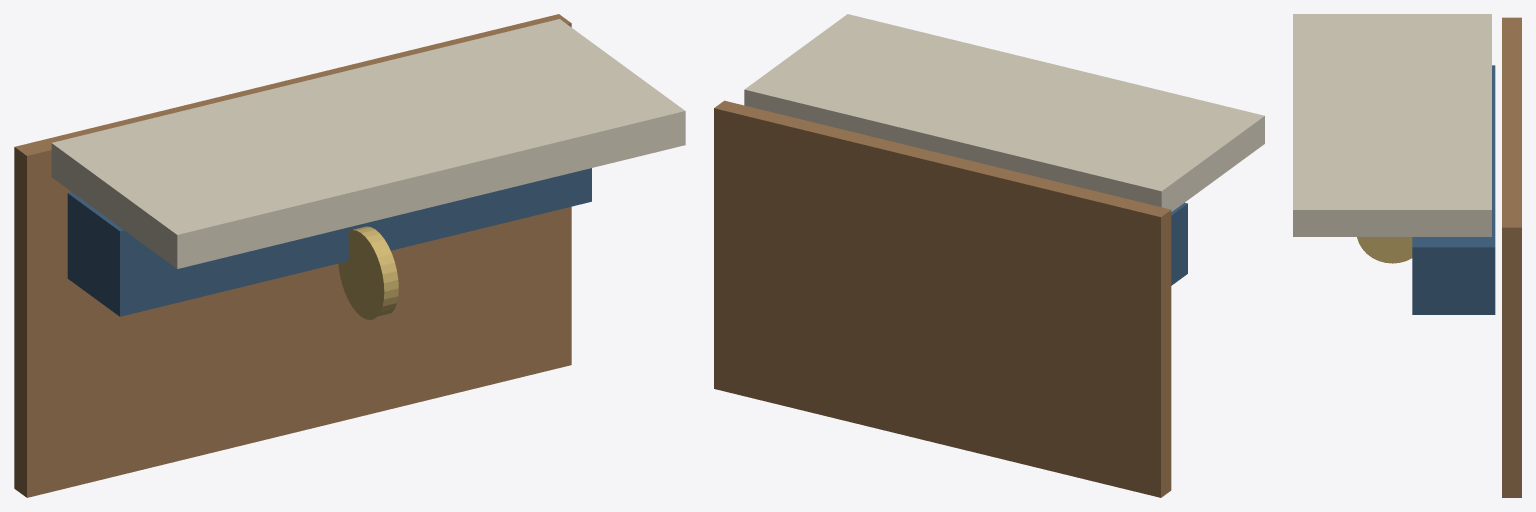
The model's file is env-sky-cockpit.glb.
3 renders of one model, left to right at view 1: azimuth 30°, elevation 25°; view 2: azimuth 150°, elevation 25°; view 3: azimuth 270°, elevation 25°, orthographic. The views are drawn at different scales.
Visible parts, largest first — view 1: wood_floor, cockpit_back_wall, cockpit_console, placeholder_wheel; view 2: wood_floor, cockpit_back_wall, cockpit_console; view 3: cockpit_back_wall, wood_floor, cockpit_console, placeholder_wheel.
Part boxes in pixels (left/top/right/bottom): wood_floor: left=14, top=14, right=571, bottom=497; cockpit_back_wall: left=51, top=19, right=685, bottom=268; cockpit_console: left=67, top=168, right=591, bottom=316; placeholder_wheel: left=338, top=226, right=398, bottom=319; wood_floor: left=714, top=100, right=1171, bottom=497; cockpit_back_wall: left=744, top=14, right=1264, bottom=211; cockpit_console: left=1171, top=202, right=1187, bottom=285; cockpit_back_wall: left=1293, top=14, right=1491, bottom=236; wood_floor: left=1502, top=17, right=1521, bottom=497; cockpit_console: left=1412, top=65, right=1495, bottom=314; placeholder_wheel: left=1357, top=237, right=1412, bottom=263.
Size of the model in its own units: 3 by 1.87 by 1.38.
